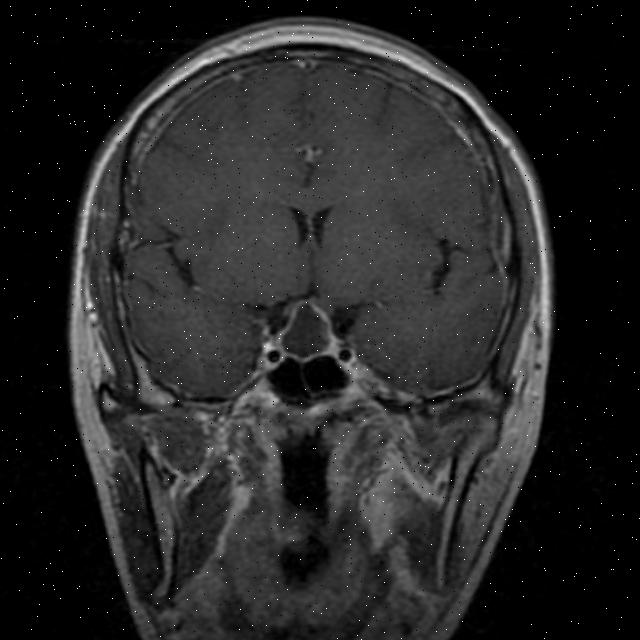Pituitary: (273, 296, 344, 364)
